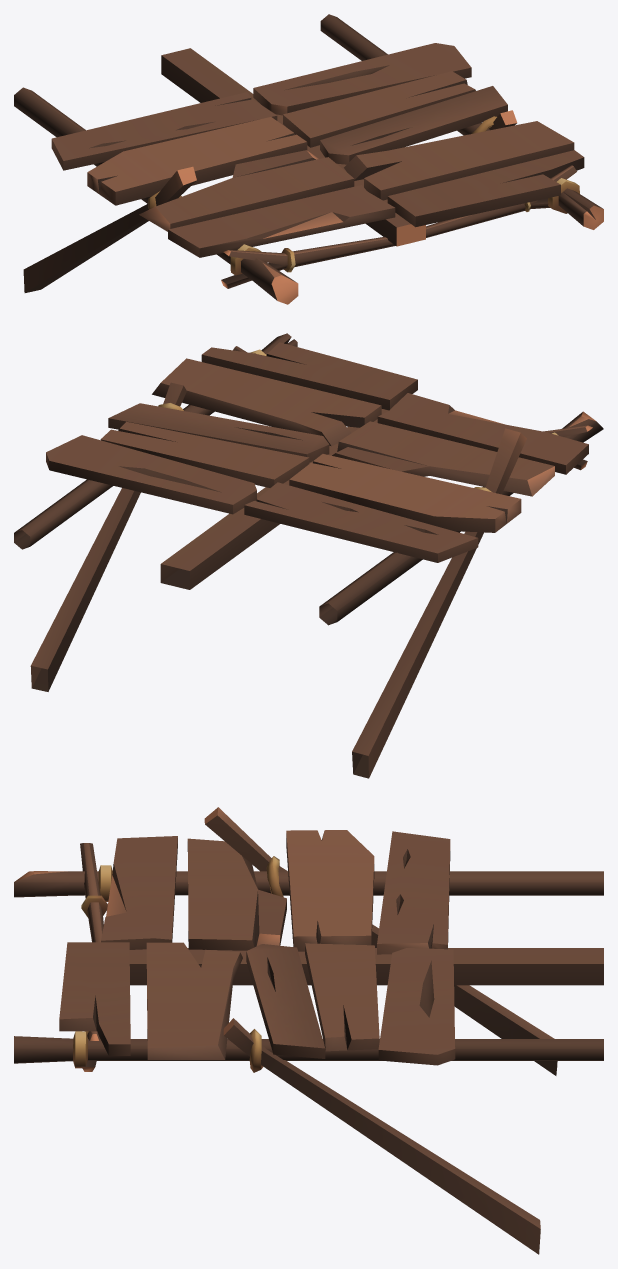
Rendered from Adjacent_Structure_3A.fbx.
3 renders of one model, top to bottom at view 1: azimuth 30°, elevation 25°; view 2: azimuth 150°, elevation 25°; view 3: azimuth 270°, elevation 25°, orthographic. The views are drawn at different scales.
Visible parts, largest first — view 1: Adjacent_Structure_3A; view 2: Adjacent_Structure_3A; view 3: Adjacent_Structure_3A.
Boxes of the visible parts, x1,y1,x2,y2 form: Adjacent_Structure_3A: [14, 14, 603, 304]; Adjacent_Structure_3A: [14, 333, 603, 778]; Adjacent_Structure_3A: [14, 807, 603, 1254].
Bounding box in the file's own units: 4.03 × 2.2 × 4.5.
